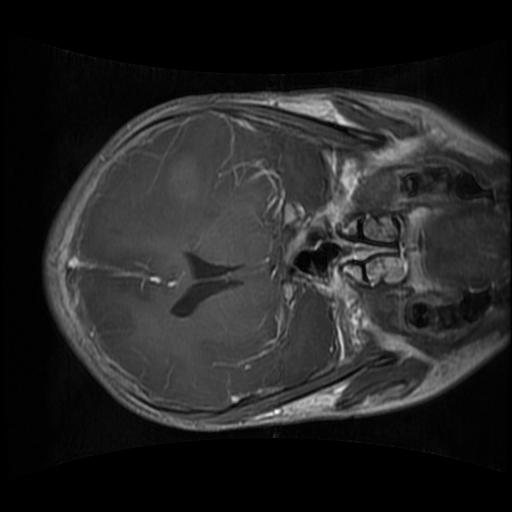glioma: (163, 151, 203, 211)
